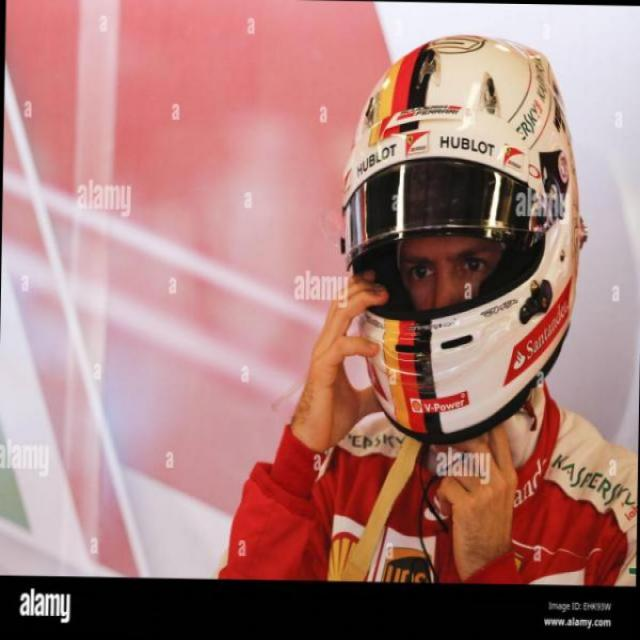Helmet: (319, 59, 592, 414)
